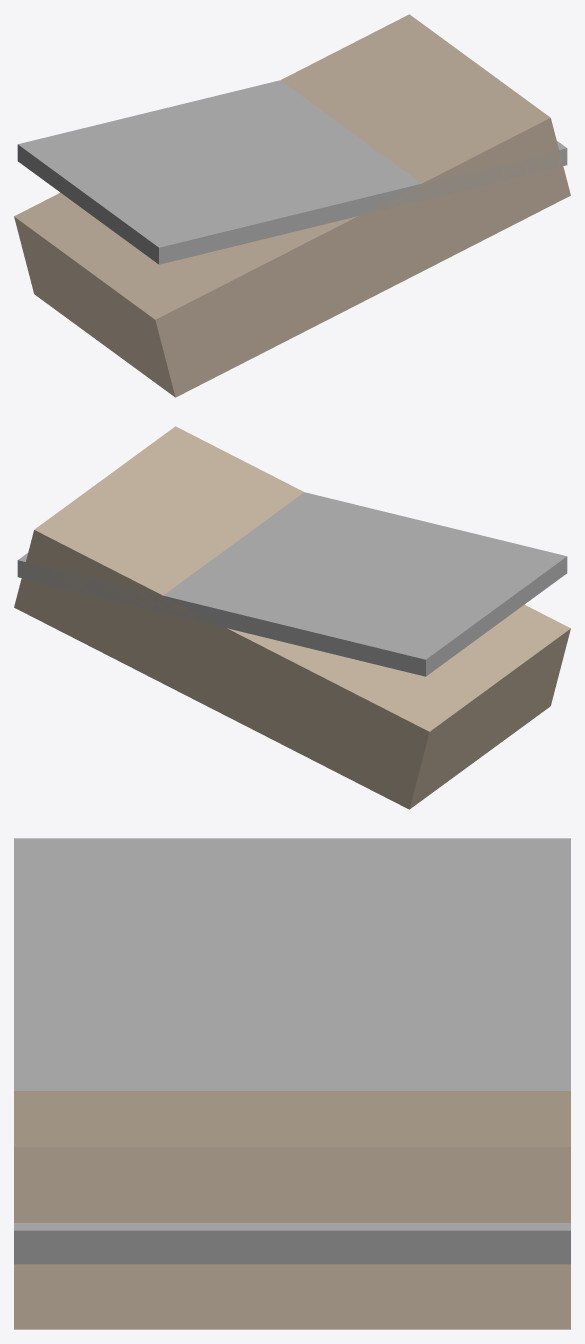
The model's file is bridge_embankment.glb.
The picture shows the model from 3 angles, top to bottom: view 1: azimuth 30°, elevation 25°; view 2: azimuth 150°, elevation 25°; view 3: azimuth 270°, elevation 25°; orthographic projection. The views are drawn at different scales.
Visible parts, largest first — view 1: embank, deck; view 2: embank, deck; view 3: deck, embank.
Boxes of the visible parts, bbox=[...] form: embank: bbox=[14, 14, 570, 397]; deck: bbox=[17, 80, 567, 264]; embank: bbox=[14, 426, 570, 809]; deck: bbox=[17, 492, 567, 676]; deck: bbox=[14, 838, 570, 1264]; embank: bbox=[14, 1091, 570, 1329].
Size of the model in its own units: 10.18 by 4.41 by 6.
